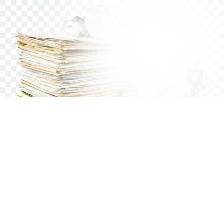news_paper: (8, 28, 172, 98), (120, 42, 214, 98), (59, 0, 134, 42)
